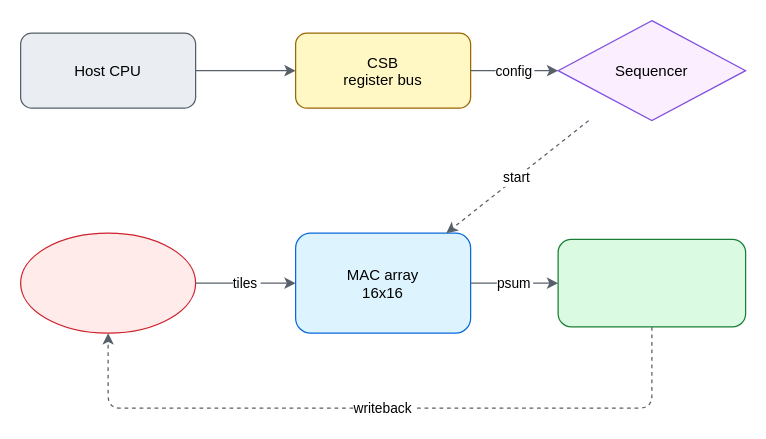
The diagram is 766 pixels wide and 439 high, and some of its shapes have lost their labels. The shapes that lost their labels are listed below. From the top down, each one's centre as x and y in pixels, then its label:
At pixel 107 282: "DRAM".
At pixel 651 282: "Accumulator".
